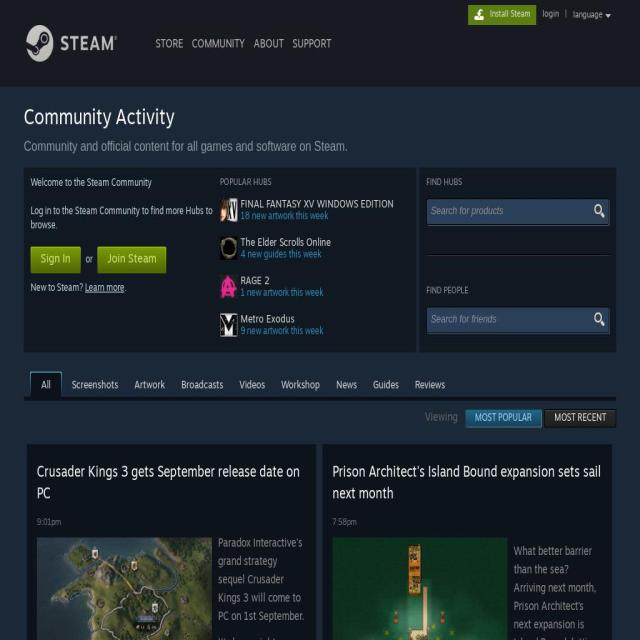button: (97, 248, 167, 274), (186, 30, 248, 59), (542, 408, 614, 431), (62, 372, 125, 398), (28, 246, 82, 274), (272, 371, 328, 398), (468, 408, 540, 428), (172, 373, 232, 397), (467, 5, 535, 26), (125, 369, 172, 399), (405, 372, 453, 398), (288, 32, 336, 57), (568, 5, 616, 28), (365, 371, 405, 398), (231, 372, 272, 398), (326, 370, 364, 398), (151, 30, 186, 59), (248, 32, 287, 58), (31, 372, 60, 398), (537, 8, 566, 26)
field: (426, 306, 610, 334), (428, 198, 610, 225)
heading: (330, 458, 604, 504), (32, 463, 297, 503), (23, 23, 121, 66), (22, 107, 181, 133), (30, 175, 154, 190), (220, 177, 274, 189)
image: (330, 537, 510, 640), (38, 538, 212, 640), (23, 24, 54, 64), (216, 312, 240, 342), (217, 274, 240, 302), (217, 237, 240, 263), (218, 197, 238, 224), (590, 199, 608, 221), (589, 310, 608, 330)
label: (425, 283, 472, 298), (424, 174, 463, 190)
link: (240, 208, 332, 226), (240, 286, 328, 302), (242, 249, 323, 264), (236, 326, 328, 337), (85, 281, 128, 296)
text: (215, 535, 308, 627), (513, 544, 597, 637), (23, 137, 349, 158), (29, 205, 214, 231), (241, 195, 395, 210), (241, 234, 334, 250), (430, 313, 499, 329), (432, 206, 506, 220), (31, 281, 84, 297), (422, 412, 460, 428), (328, 516, 359, 532), (34, 517, 63, 533), (239, 276, 273, 286)
